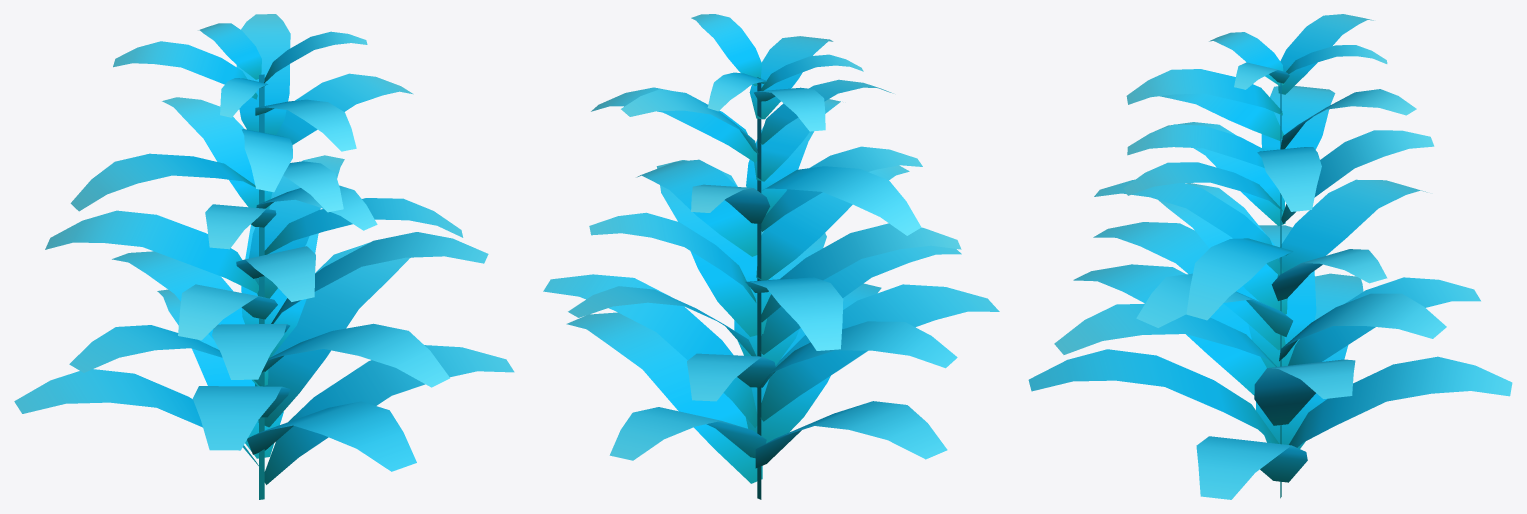
The model's file is plant_004.fbx.
3 views of the same model, side by side, from view 1: azimuth 30°, elevation 25°; view 2: azimuth 150°, elevation 25°; view 3: azimuth 270°, elevation 25° (orthographic).
Visible parts, largest first — view 1: plant.004; view 2: plant.004; view 3: plant.004.
Boxes of the visible parts, x1,y1,x2,y2 form: plant.004: [14, 14, 514, 499]; plant.004: [543, 14, 999, 499]; plant.004: [1028, 14, 1512, 499].
Bounding box in the file's own units: 49.6 × 49.94 × 47.99.
